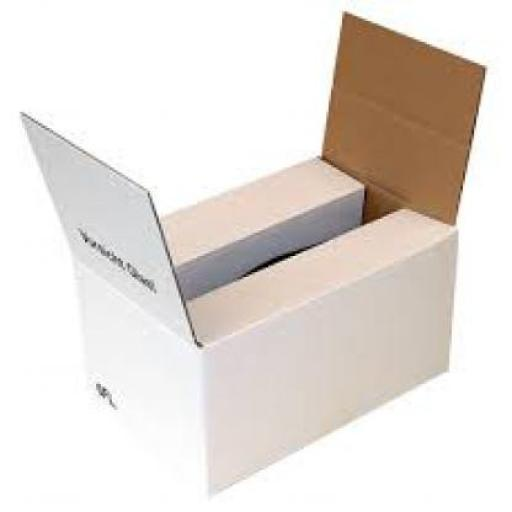cardboard: (15, 9, 483, 492)
